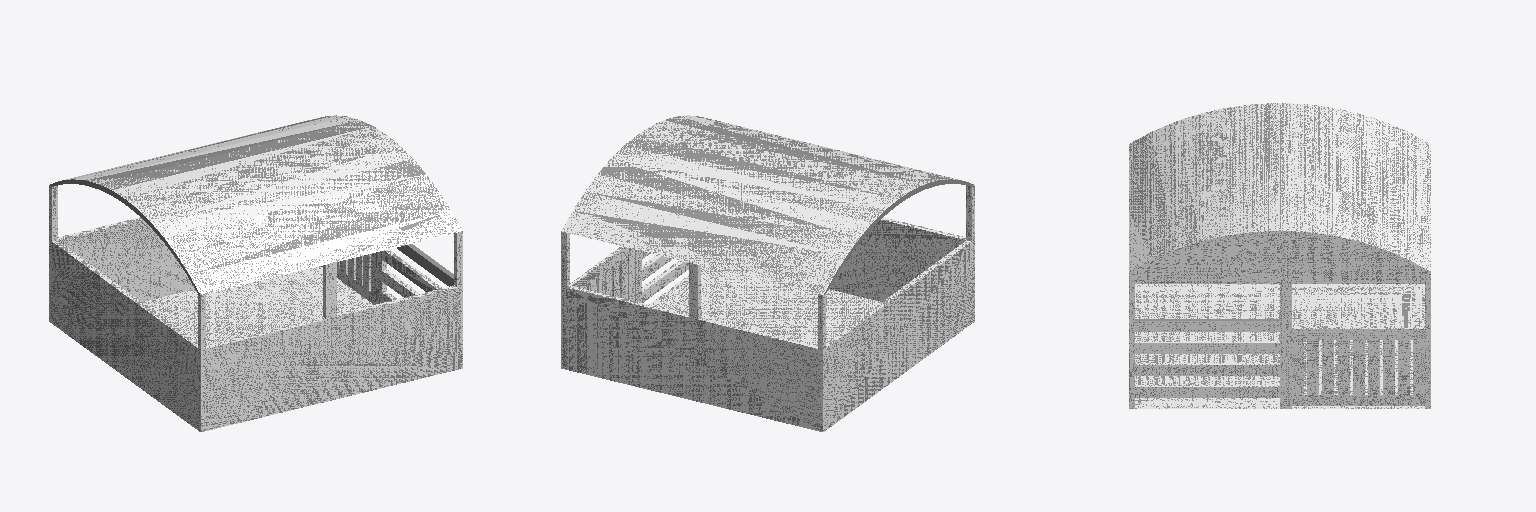
File: establo2.obj
The picture shows the model from 3 angles: view 1: azimuth 30°, elevation 25°; view 2: azimuth 150°, elevation 25°; view 3: azimuth 270°, elevation 25°; orthographic projection.
Parts seen in each view (by area): view 1: SketchUp_ID3, SketchUp.013_ID124, SketchUp.002_ID26, SketchUp.003_ID39, SketchUp.001_ID18; view 2: SketchUp_ID3, SketchUp.013_ID124, SketchUp.002_ID26, SketchUp.003_ID39; view 3: SketchUp.013_ID124, SketchUp_ID3, SketchUp.002_ID26, SketchUp.003_ID39.
Part boxes in pixels (bbox=[...]): SketchUp_ID3: bbox=[49, 185, 462, 431]; SketchUp.013_ID124: bbox=[50, 115, 461, 294]; SketchUp.002_ID26: bbox=[142, 267, 369, 345]; SketchUp.003_ID39: bbox=[321, 253, 375, 304]; SketchUp.001_ID18: bbox=[397, 244, 453, 286]; SketchUp_ID3: bbox=[561, 185, 974, 431]; SketchUp.013_ID124: bbox=[562, 115, 973, 294]; SketchUp.002_ID26: bbox=[654, 267, 881, 345]; SketchUp.003_ID39: bbox=[570, 246, 634, 300]; SketchUp.013_ID124: bbox=[1129, 103, 1430, 271]; SketchUp_ID3: bbox=[1129, 236, 1430, 408]; SketchUp.002_ID26: bbox=[1135, 284, 1424, 406]; SketchUp.003_ID39: bbox=[1292, 328, 1424, 405].
Bounding box in the file's own units: 5 × 3.25 × 5.